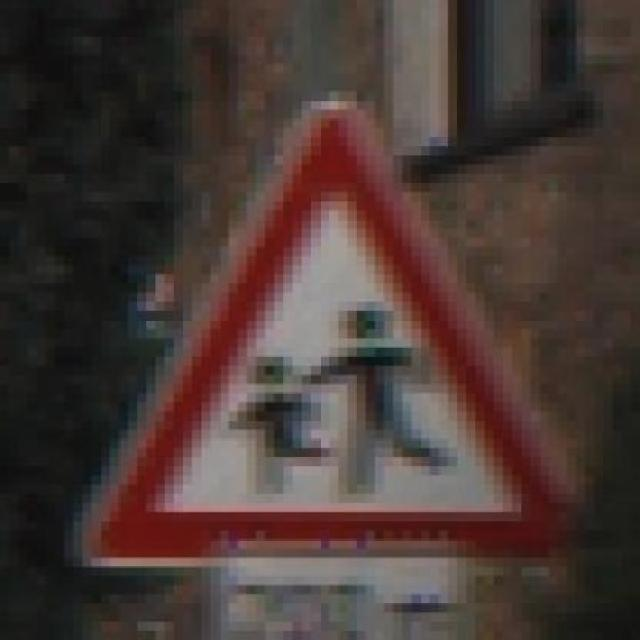Beware of children: (73, 92, 604, 576)
